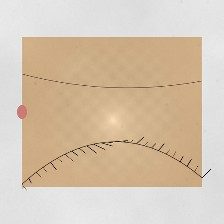pinguecula_lesion: (166, 98, 201, 125)
